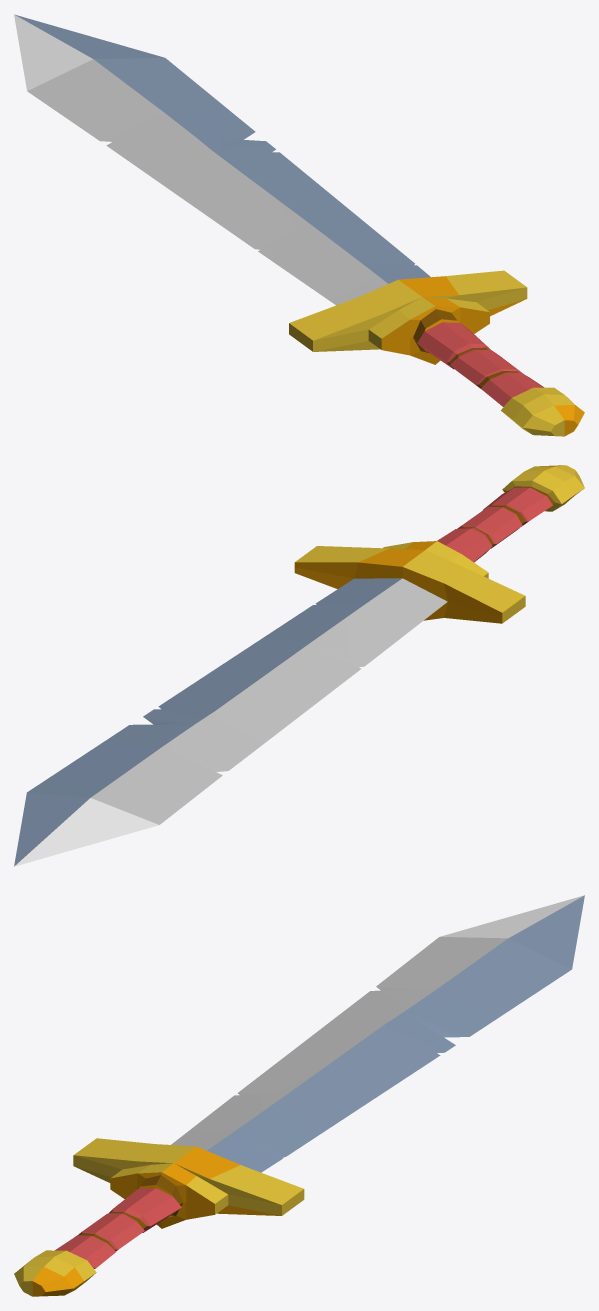
The model's file is Sword.fbx.
3 renders of one model, top to bottom at view 1: azimuth 30°, elevation 25°; view 2: azimuth 150°, elevation 25°; view 3: azimuth 330°, elevation 25°, orthographic. The views are drawn at different scales.
Visible parts, largest first — view 1: pCube1; view 2: pCube1; view 3: pCube1.
Part boxes in pixels (x1,y1,x2,y2): pCube1: (14,14,584,436); pCube1: (14,465,584,866); pCube1: (14,895,584,1296).
Size of the model in its own units: 1.68 by 0.4381 by 7.59.
